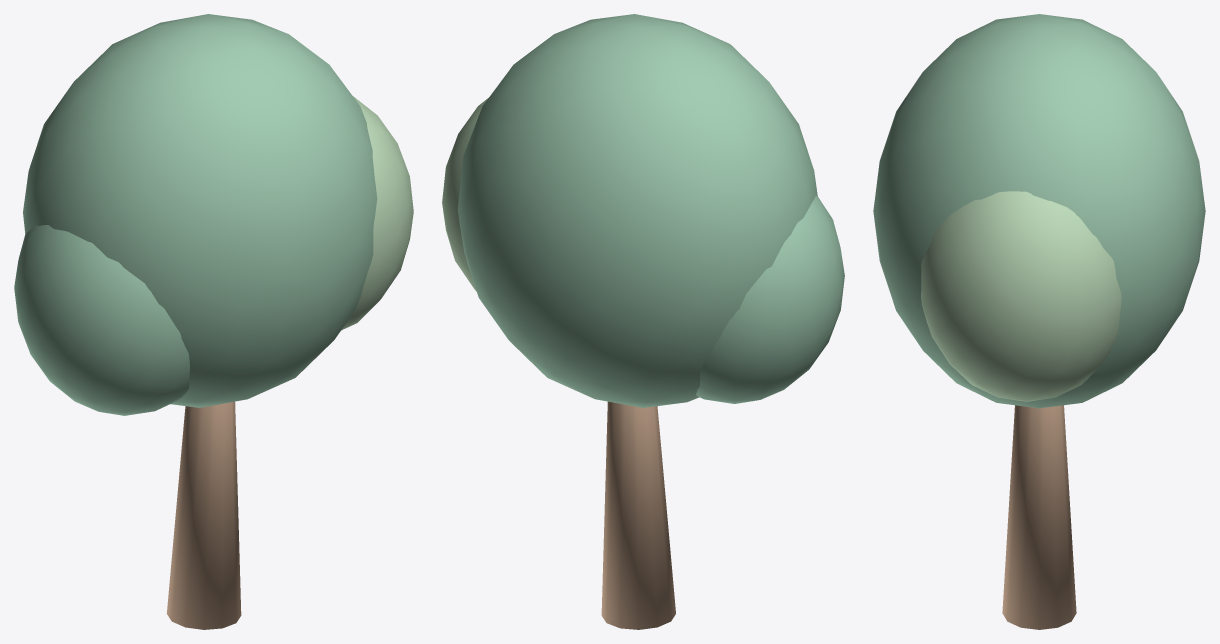
The model's file is tree_broadleaf.glb.
The picture shows the model from 3 angles, left to right: view 1: azimuth 30°, elevation 25°; view 2: azimuth 150°, elevation 25°; view 3: azimuth 270°, elevation 25°; orthographic projection.
Parts seen in each view (by area): view 1: crown_0, crown_1, tapered_trunk, crown_2; view 2: crown_0, crown_1, tapered_trunk, crown_2; view 3: crown_0, crown_2, tapered_trunk.
Boxes of the visible parts, x1,y1,x2,y2 form: crown_0: [23, 14, 377, 407]; crown_1: [14, 225, 189, 415]; tapered_trunk: [166, 401, 241, 629]; crown_2: [341, 96, 413, 330]; crown_0: [457, 14, 817, 407]; crown_1: [696, 195, 844, 403]; tapered_trunk: [601, 401, 675, 629]; crown_2: [442, 98, 488, 291]; crown_0: [873, 14, 1205, 408]; crown_2: [921, 191, 1121, 401]; tapered_trunk: [1002, 405, 1076, 629].
Bounding box in the file's own units: 2.65 × 4.01 × 2.06.
